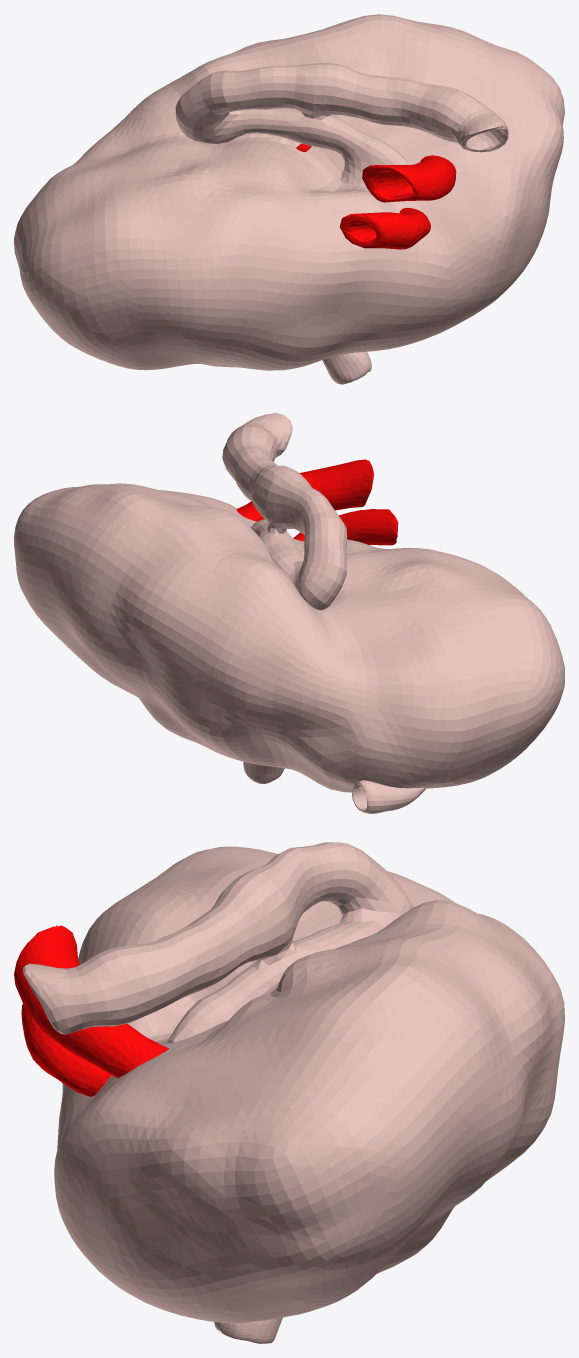
Rendered from NIH_F_Lymph_Node_0.8.glb.
3 renders of one model, top to bottom at view 1: azimuth 30°, elevation 25°; view 2: azimuth 150°, elevation 25°; view 3: azimuth 270°, elevation 25°, orthographic. The views are drawn at different scales.
Visible parts, largest first — view 1: Yao_capsule_of_lymph_node, Yao_efferent_lymph_node, Yao_blood_vasculature, Yao_afferent_lymphatic_vessel; view 2: Yao_capsule_of_lymph_node, Yao_efferent_lymph_node, Yao_blood_vasculature, Yao_afferent_lymphatic_vessel; view 3: Yao_capsule_of_lymph_node, Yao_efferent_lymph_node, Yao_blood_vasculature, Yao_afferent_lymphatic_vessel.
Boxes of the visible parts, x1,y1,x2,y2 form: Yao_capsule_of_lymph_node: (14, 14, 564, 370); Yao_efferent_lymph_node: (175, 63, 508, 184); Yao_blood_vasculature: (296, 143, 456, 249); Yao_afferent_lymphatic_vessel: (322, 351, 371, 384); Yao_capsule_of_lymph_node: (14, 483, 564, 792); Yao_efferent_lymph_node: (222, 413, 347, 610); Yao_blood_vasculature: (236, 459, 398, 545); Yao_afferent_lymphatic_vessel: (243, 761, 425, 813); Yao_capsule_of_lymph_node: (54, 846, 564, 1323); Yao_efferent_lymph_node: (23, 842, 413, 1043); Yao_blood_vasculature: (14, 925, 168, 1096); Yao_afferent_lymphatic_vessel: (214, 1317, 282, 1343).
Size of the model in its own units: 0.0196 by 0.0113 by 0.0125.
